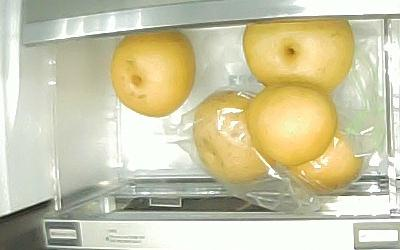pear: (242, 20, 354, 91), (110, 30, 194, 117), (250, 85, 336, 166)
pear_vinyl: (193, 91, 276, 183), (290, 127, 362, 190)
